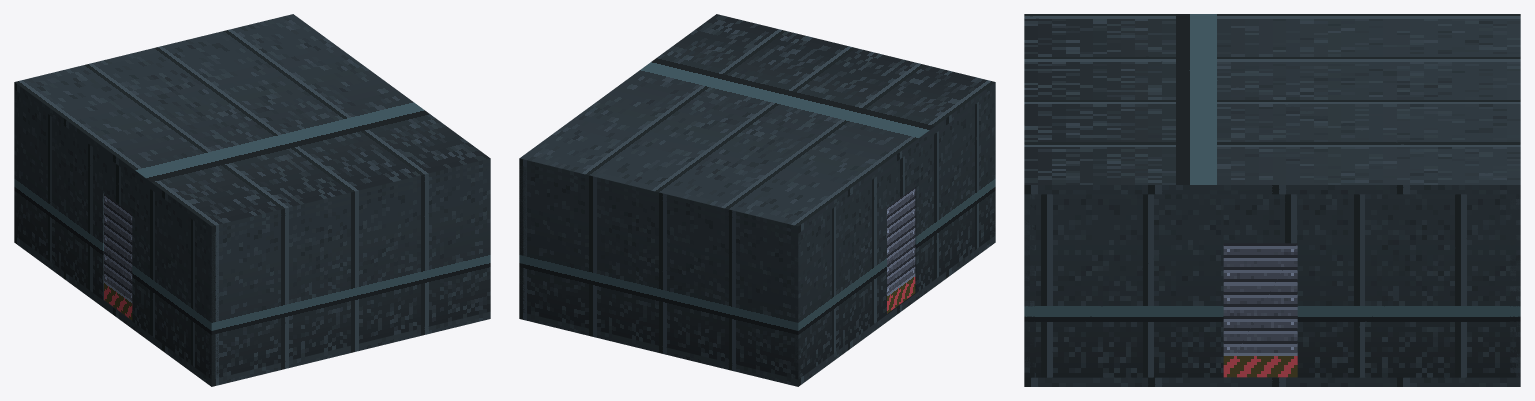
The model's file is office_room.glb.
3 views of the same model, side by side, from view 1: azimuth 30°, elevation 25°; view 2: azimuth 150°, elevation 25°; view 3: azimuth 270°, elevation 25° (orthographic). The views are drawn at different scales.
Visible parts, largest first — view 1: Ceiling, BackWall, LeftWall, Floor, LeftDoor, FrontWall; view 2: Ceiling, FrontWall, LeftWall, Floor, LeftDoor, RightWall, BackWall; view 3: Ceiling, RightWall, RightDoor, Floor, FrontWall, BackWall.
Part boxes in pixels (box(x1,y1,x2,y2)): Ceiling: box(14, 14, 490, 233); BackWall: box(207, 165, 490, 379); LeftWall: box(14, 90, 218, 379); Floor: box(14, 235, 490, 386); LeftDoor: box(104, 194, 132, 320); FrontWall: box(14, 89, 18, 237); Ceiling: box(519, 14, 995, 233); FrontWall: box(519, 166, 802, 379); LeftWall: box(791, 90, 995, 379); Floor: box(519, 235, 995, 386); LeftDoor: box(887, 187, 915, 313); RightWall: box(519, 165, 526, 312); BackWall: box(991, 89, 995, 237); Ceiling: box(1024, 14, 1520, 194); RightWall: box(1024, 194, 1520, 377); RightDoor: box(1223, 243, 1297, 377); Floor: box(1024, 377, 1520, 386); FrontWall: box(1510, 194, 1520, 377); BackWall: box(1024, 194, 1034, 377).
Size of what is drawn, in the model's own units: 6 by 3.3 by 7.35.
Materials: 1 (1 with a texture image).
